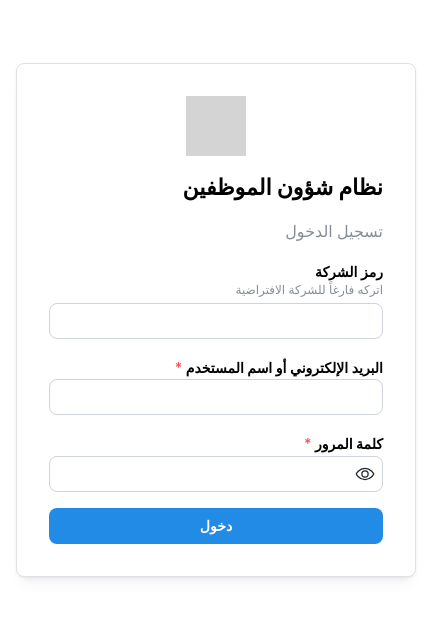
Scenario: شاشة الدخول › رسالة القفل تظهر عند ACCOUNT_LOCKED
This screenshot has width=433, height=644.
Step 1. Type "a@b.test" into the field labelled "البريد الإلكتروني أو اسم المستخدم *" → [216, 398], box [49,380,383,416]
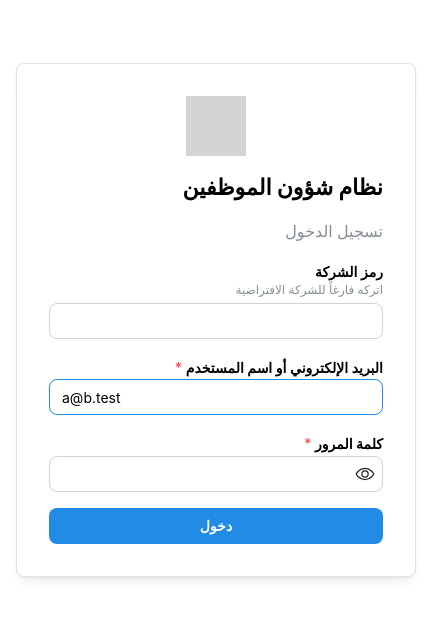
Step 2. Type "secret" into the password field labelled "كلمة المرور *" → [216, 474], box [50,457,382,491]
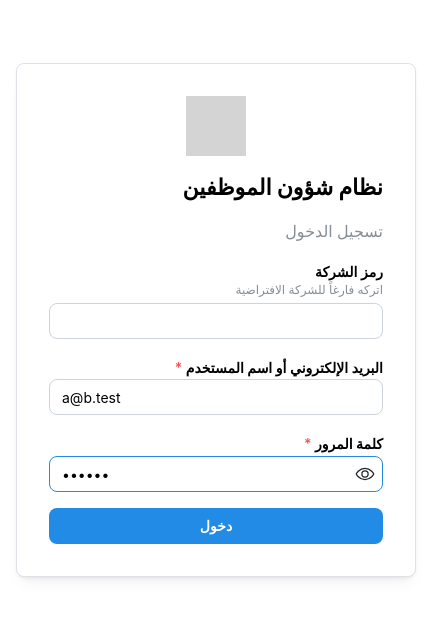
Step 3. Click the button "دخول" → [216, 526], box [49,508,383,544]
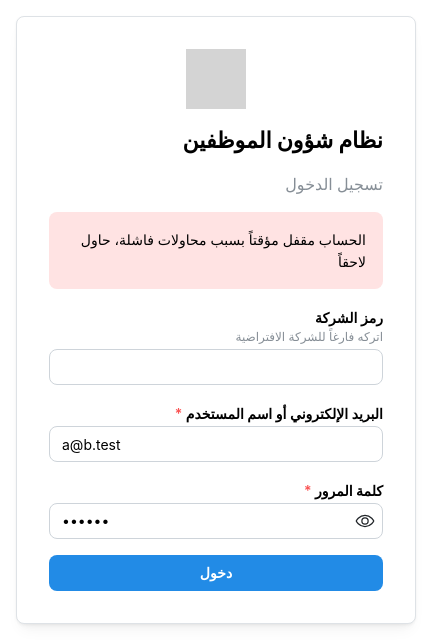
Result: the message shows "مقفل" at [81,231,366,270]
